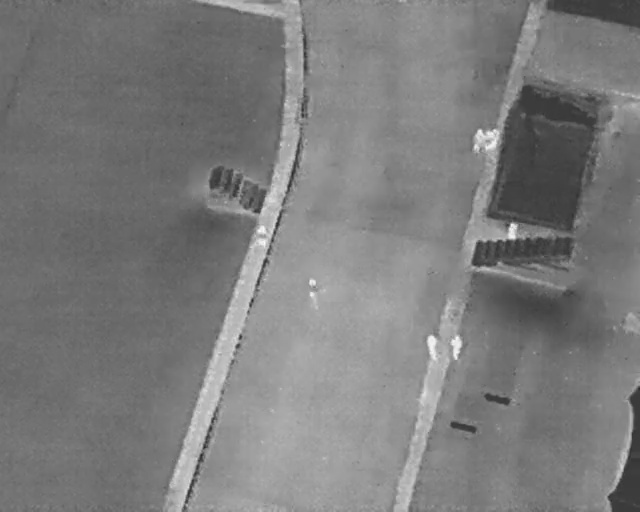Person: (424, 331, 441, 366), (448, 335, 465, 361), (306, 276, 320, 303), (471, 126, 483, 154), (255, 224, 270, 245), (507, 221, 519, 241), (482, 129, 494, 148), (493, 130, 501, 149)
